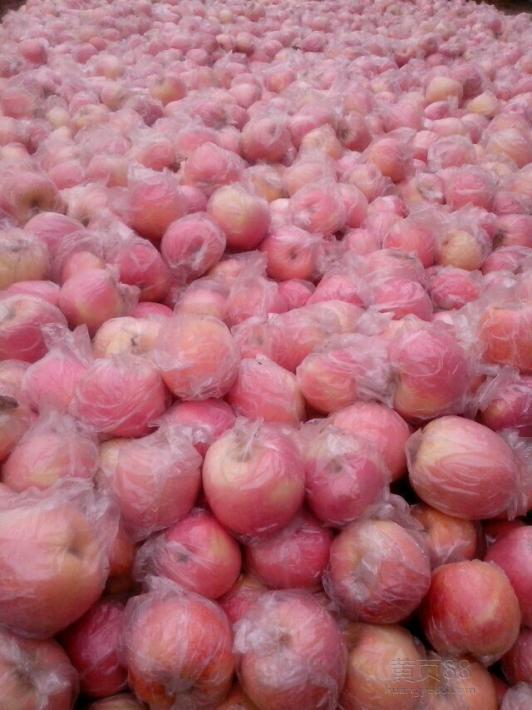apple: (416, 557, 522, 669)
